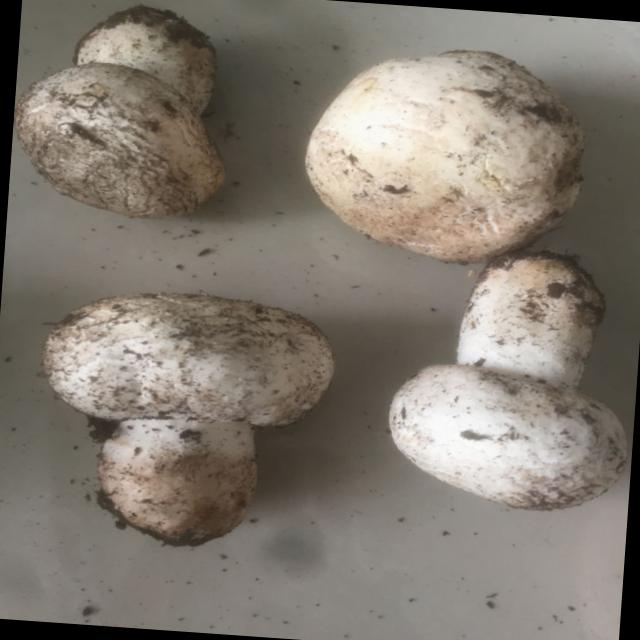Agaricus bisporus: (34, 288, 340, 555), (300, 36, 594, 272), (388, 243, 638, 518), (16, 0, 243, 218)
